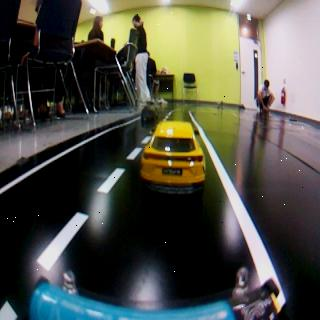car: (141, 120, 207, 192), (144, 105, 156, 124)
